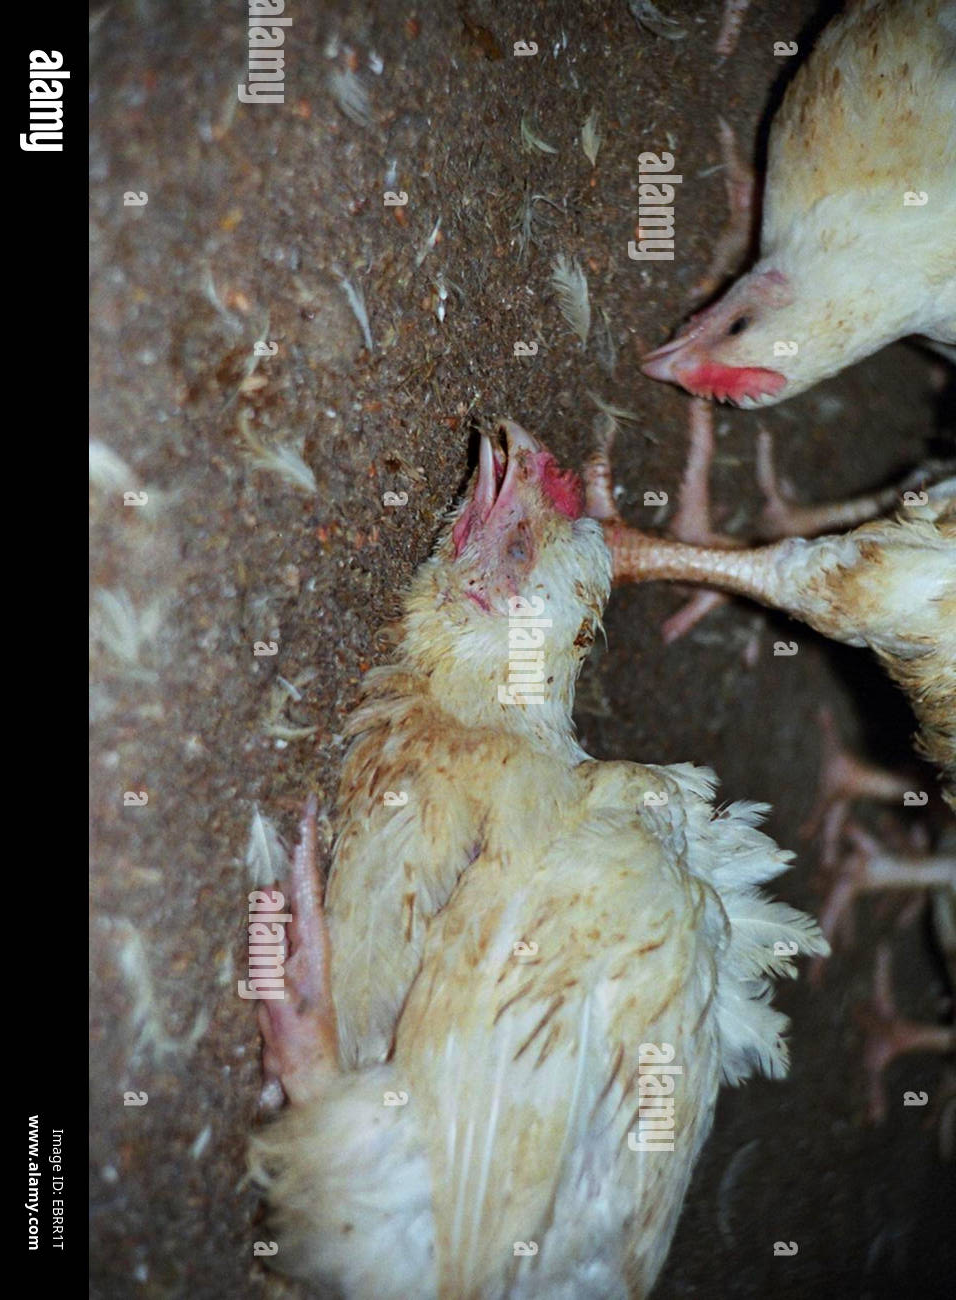Unhealthy: (240, 408, 809, 1276)
